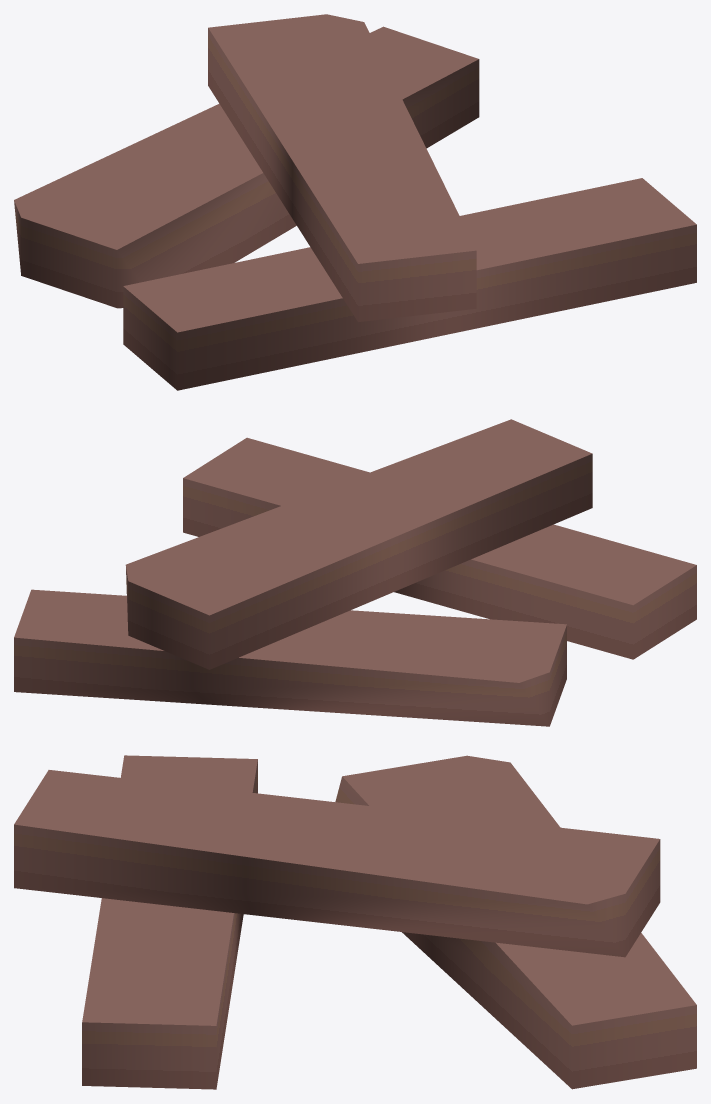
The model's file is debris-wood.glb.
The picture shows the model from 3 angles, top to bottom: view 1: azimuth 30°, elevation 25°; view 2: azimuth 150°, elevation 25°; view 3: azimuth 270°, elevation 25°; orthographic projection. The views are drawn at different scales.
Visible parts, largest first — view 1: debris-wood; view 2: debris-wood; view 3: debris-wood.
Boxes of the visible parts, x1,y1,x2,y2 form: debris-wood: [14, 14, 696, 390]; debris-wood: [14, 419, 696, 726]; debris-wood: [14, 755, 696, 1089].
Size of the model in its own units: 0.4582 by 0.1005 by 0.4889.
Materials: 1 (1 with a texture image).
